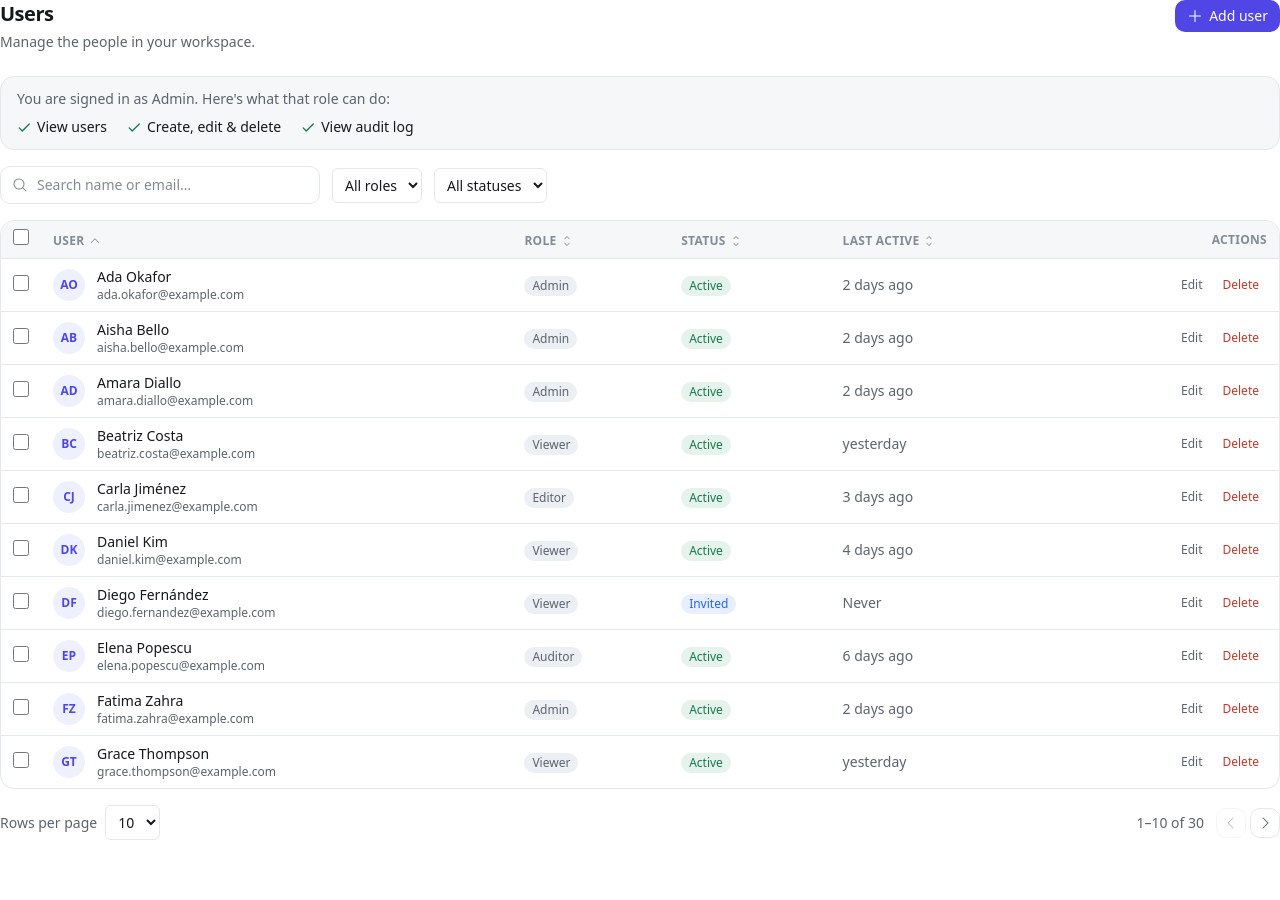
it: UsersPage › bulk-deletes selected rows after confirmation
The image size is (1280, 900).
Expected: the text "Ada Okafor" is shown, [97,267,171,286]
Step 1. Type "ada" into the search field labelled "Search" → (160, 185), box [0,166,320,204]
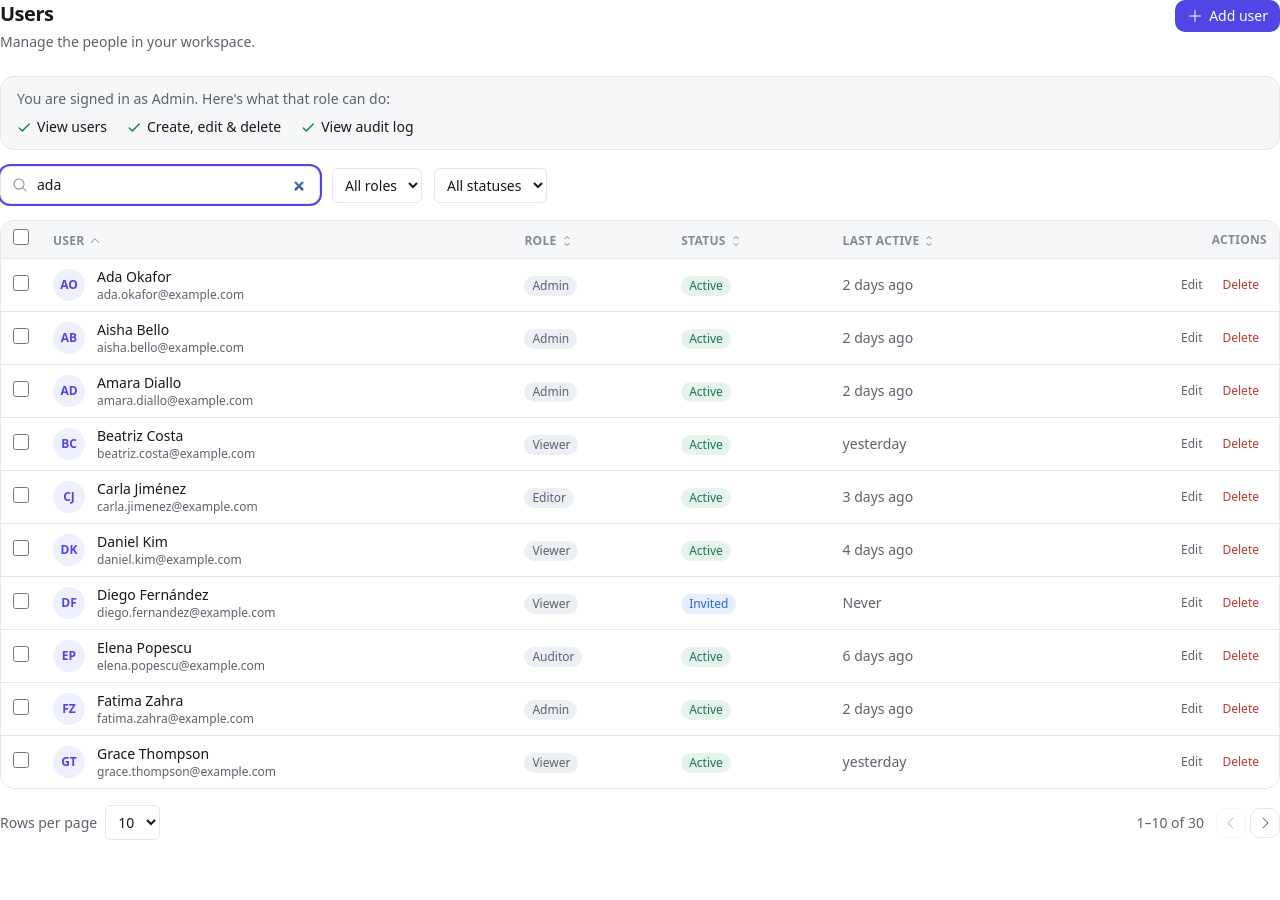
Step 2. Click the checkbox named "Select Ada Okafor" → click(21, 282), box [13,274,29,290]
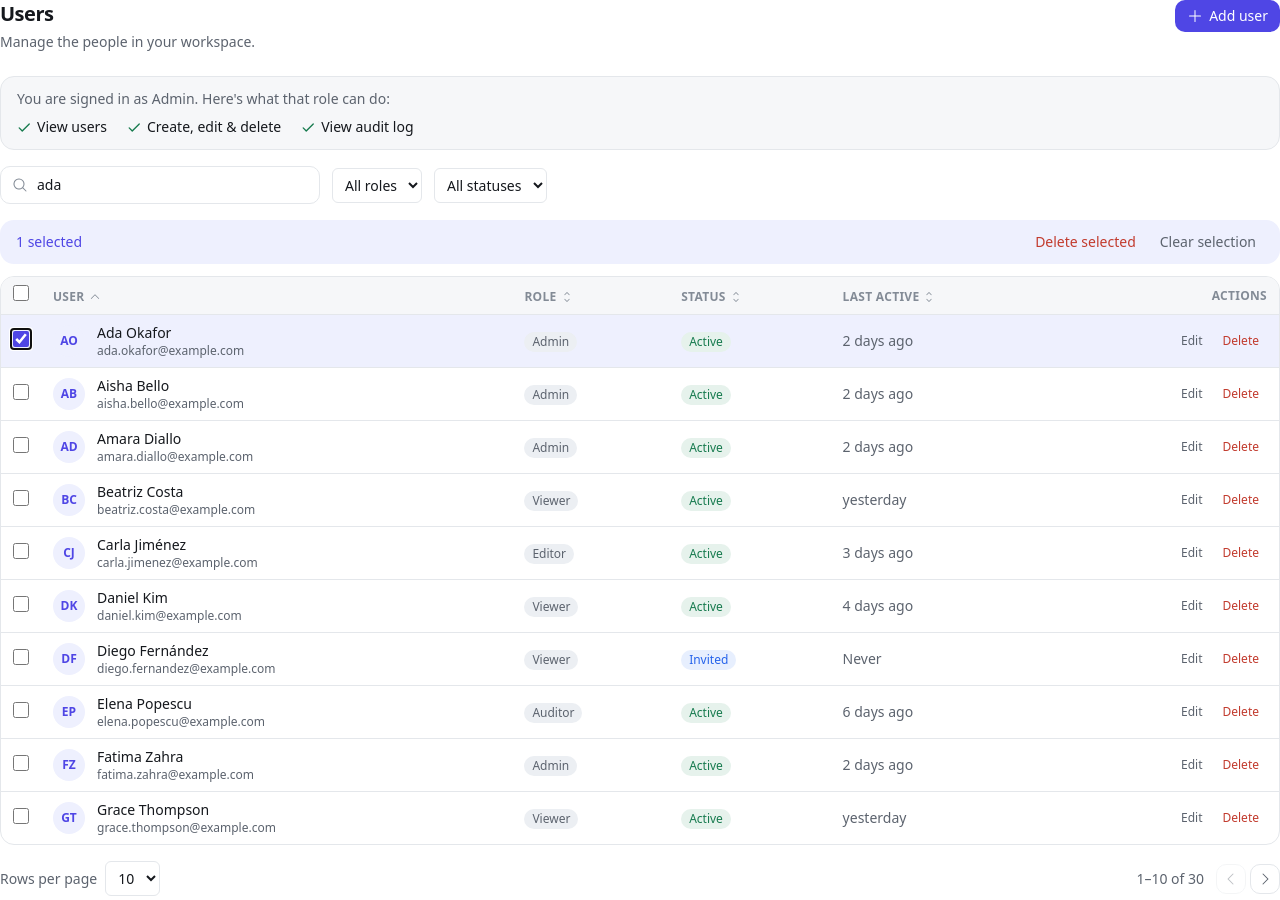
Step 3. Click the button "Delete selected" → click(1085, 242), box [1027,228,1144,256]
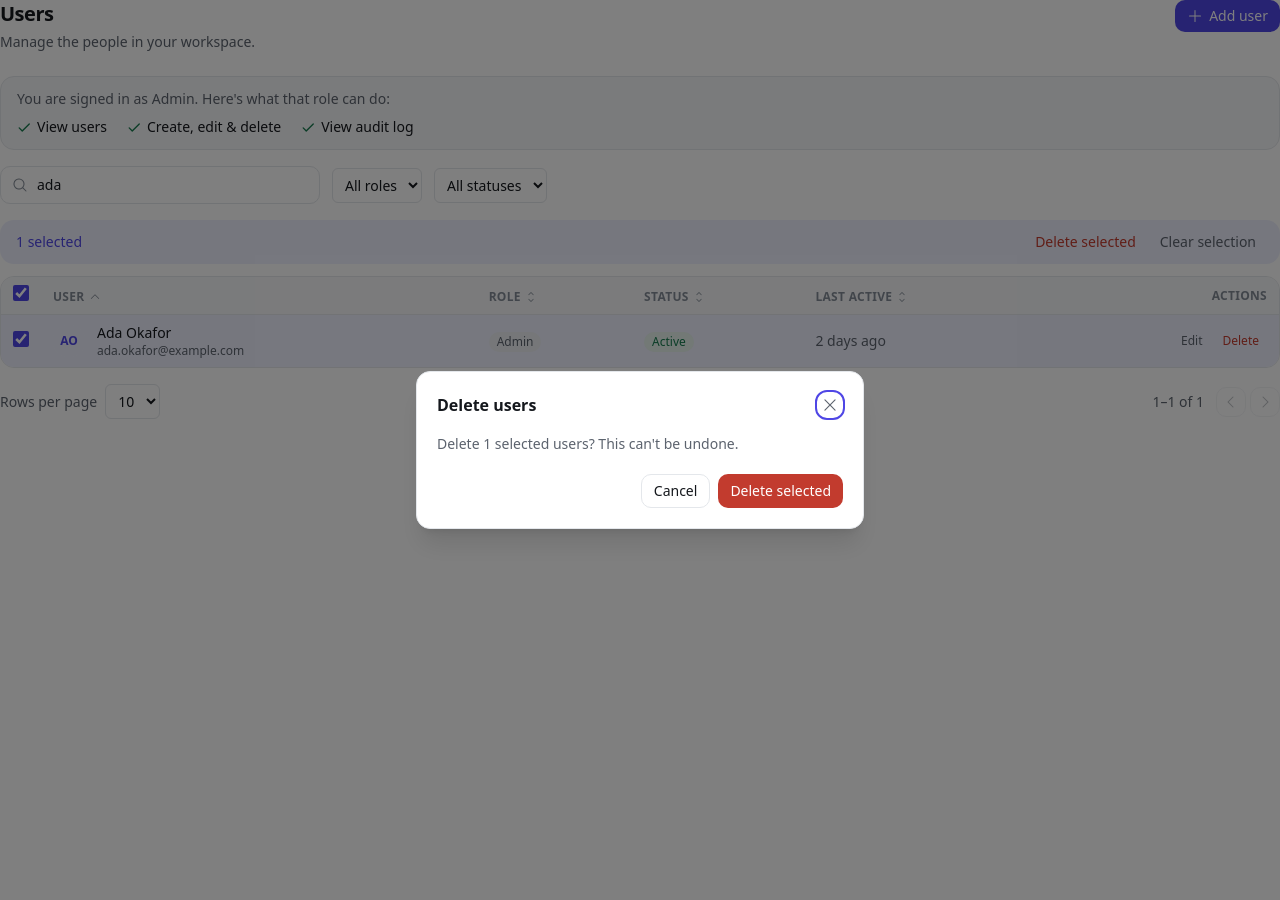
Step 4. Click the button "Delete selected" → click(781, 491), box [718,474,843,508]
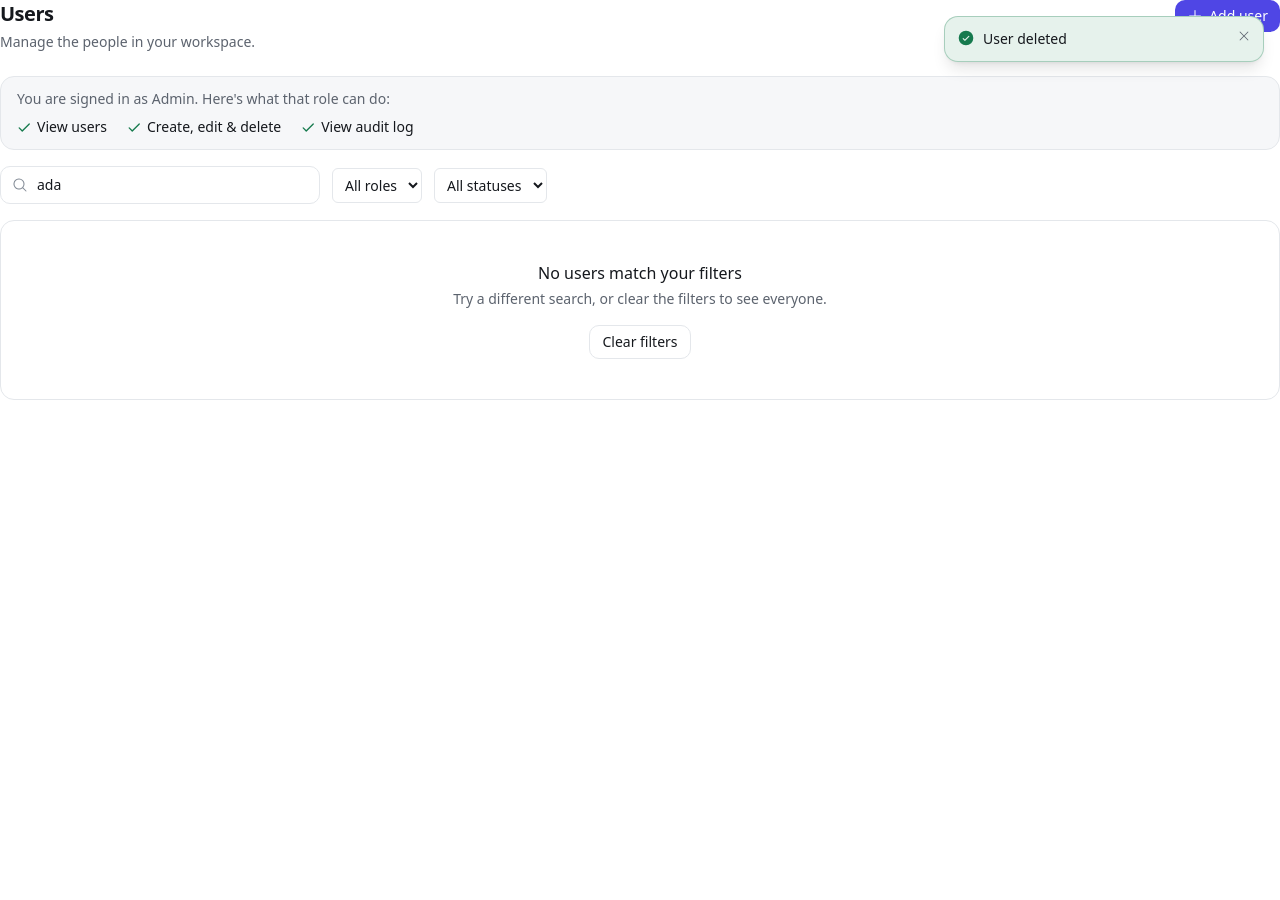
Now the text "Ada Okafor" is gone
